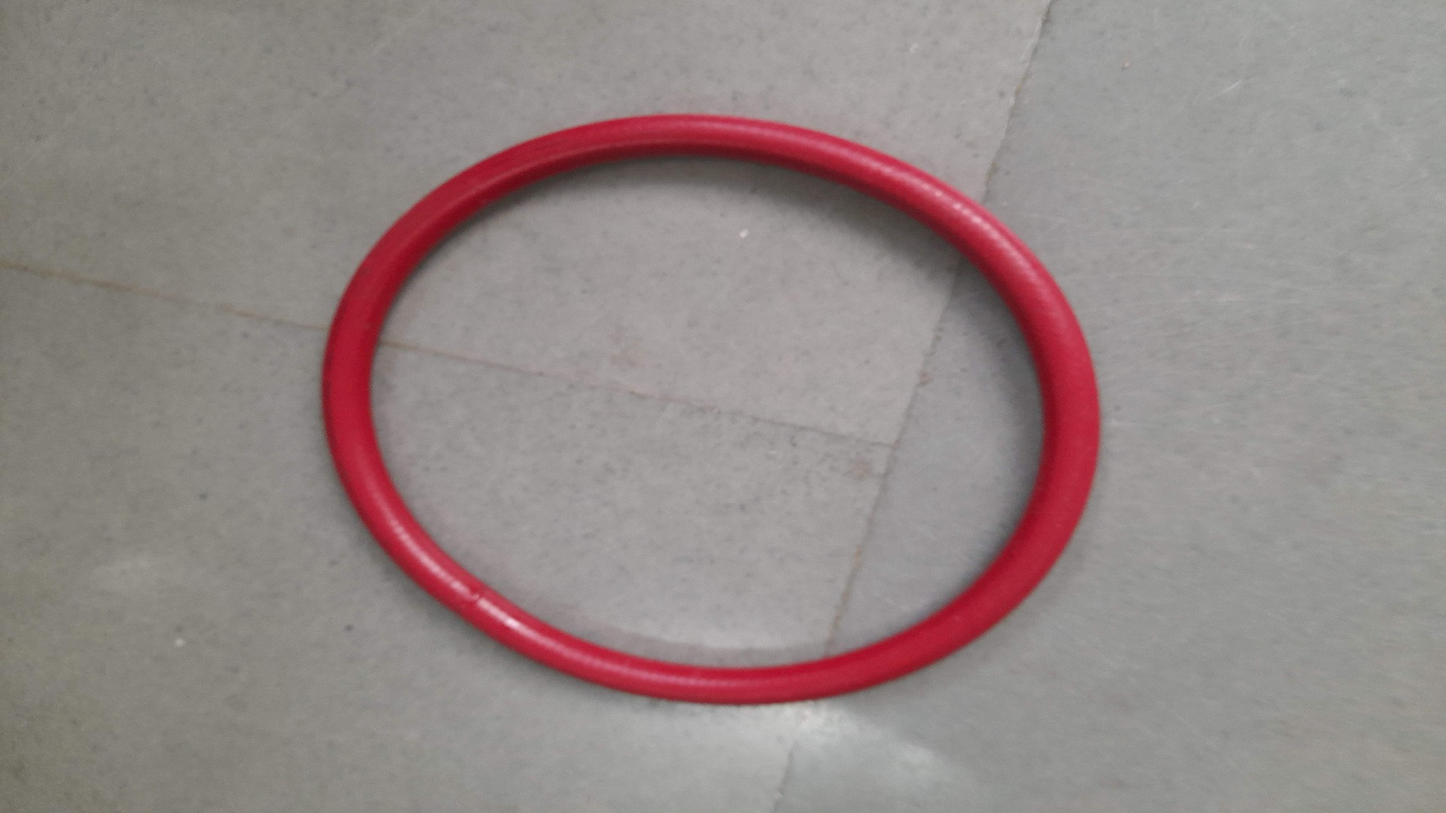Red ring: (319, 116, 1103, 703)
